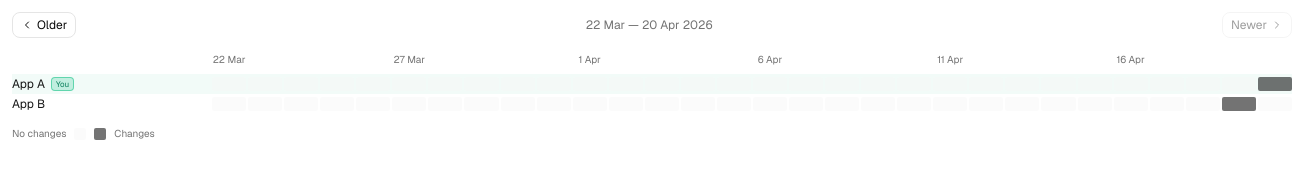
Scenario: ChangeHeatmap › keeps navigation visible when navigating to an empty period
The width and height of the screenshot is (1304, 185).
Check: the link "App A" is shown, box [12,76,45,92]
# Navigate to older period (30-60 days ago) — no data there
Click the button with aria-label "Previous period": (44, 25) [12,12,76,38]
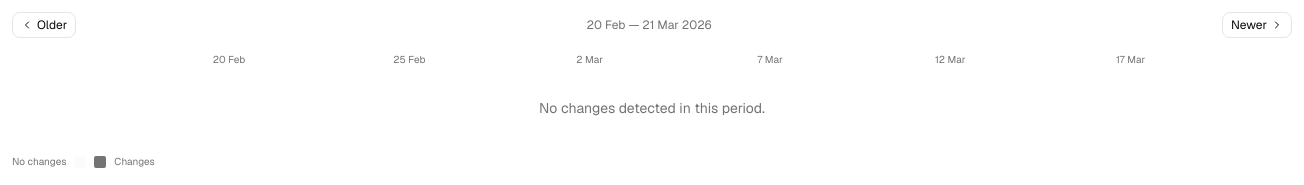
Check: the button with aria-label "Next period" is shown, box [1222,12,1292,38]
Check: the text "No changes detected in this period." is shown, box [539,99,765,117]
